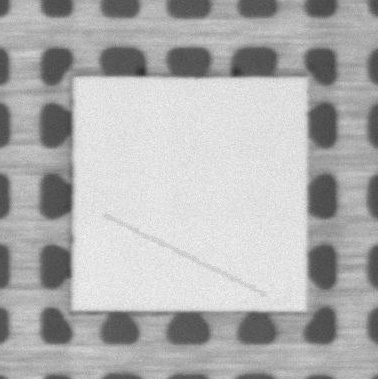DIE_CRACK: (104, 216, 264, 295)
